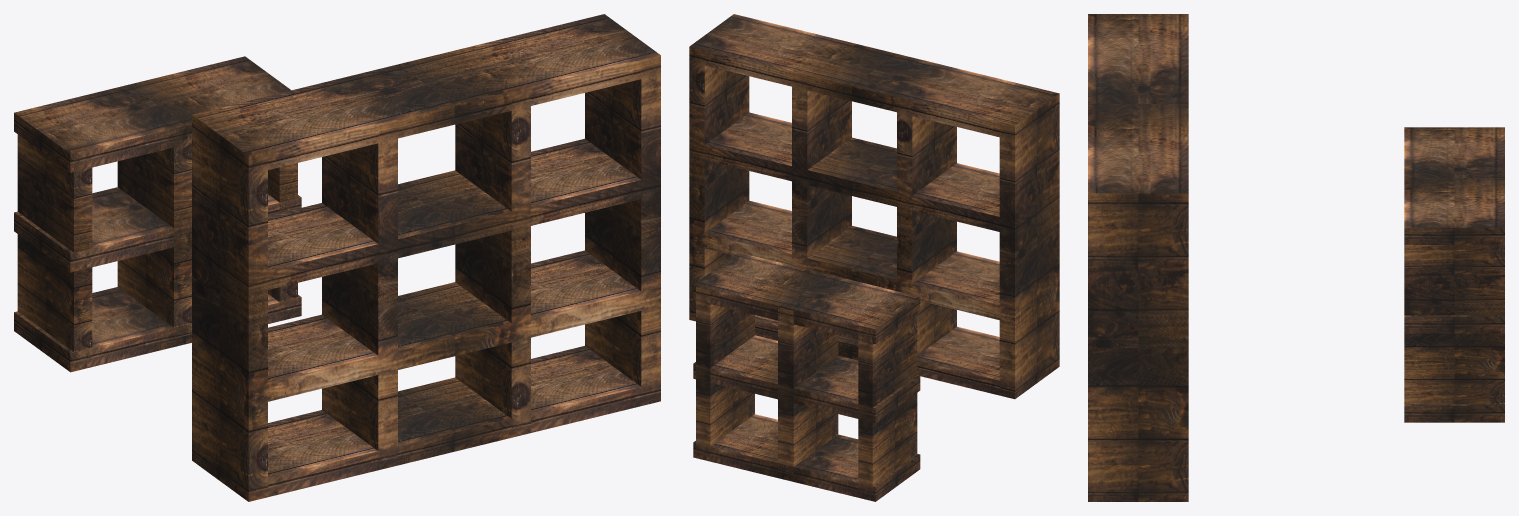
File: Kallax-Inspired_Low-Poly_Shelf.glb
3 views of the same model, side by side, from view 1: azimuth 30°, elevation 25°; view 2: azimuth 150°, elevation 25°; view 3: azimuth 270°, elevation 25° (orthographic). The views are drawn at different scales.
Parts seen in each view (by area): view 1: HFBXASC195FBXASC188lle (×2); view 2: HFBXASC195FBXASC188lle (×2); view 3: HFBXASC195FBXASC188lle (×2).
Boxes of the visible parts, left/top/right/bottom form: HFBXASC195FBXASC188lle (×2): left=14, top=14, right=660, bottom=501; HFBXASC195FBXASC188lle (×2): left=689, top=14, right=1059, bottom=501; HFBXASC195FBXASC188lle (×2): left=1088, top=14, right=1504, bottom=501.
Bounding box in the file's own units: 4.59 × 3.67 × 4.5.
Materials: 1 (1 with a texture image).
